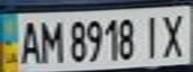1: (103, 16, 121, 62)
8: (66, 16, 87, 63), (118, 15, 139, 61)
9: (84, 16, 106, 63)
A: (15, 17, 42, 65)
I: (139, 11, 166, 60)
M: (36, 16, 63, 64)
X: (157, 10, 190, 58)
